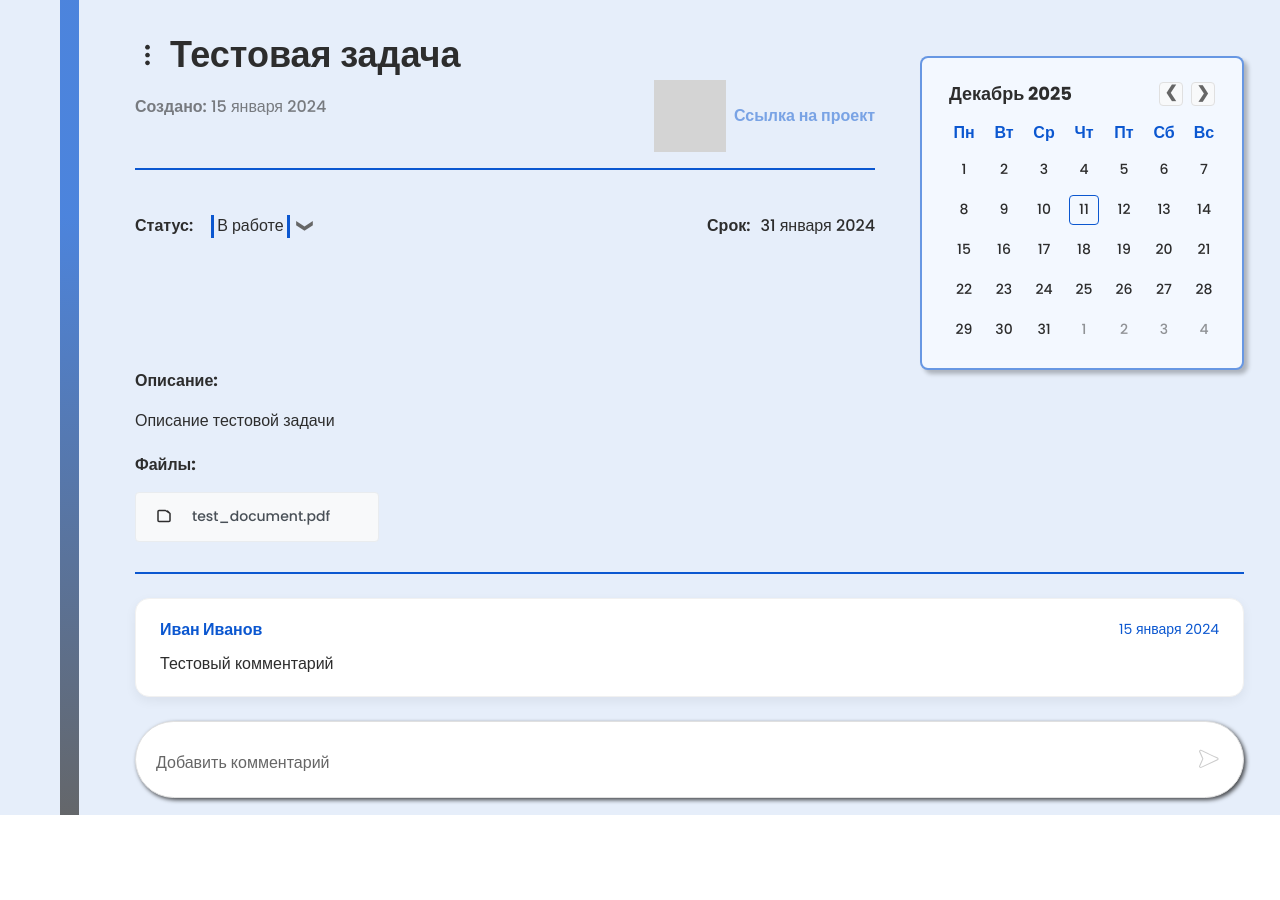
Test: TaskInfo Component › Edge cases › should handle manager role with different user IDs
What coordinates should you click on to do the following:
click the element with test id "toggle-dropdown-btn"
I would click on:
 (261, 227)
Its box is [203,211,319,242].
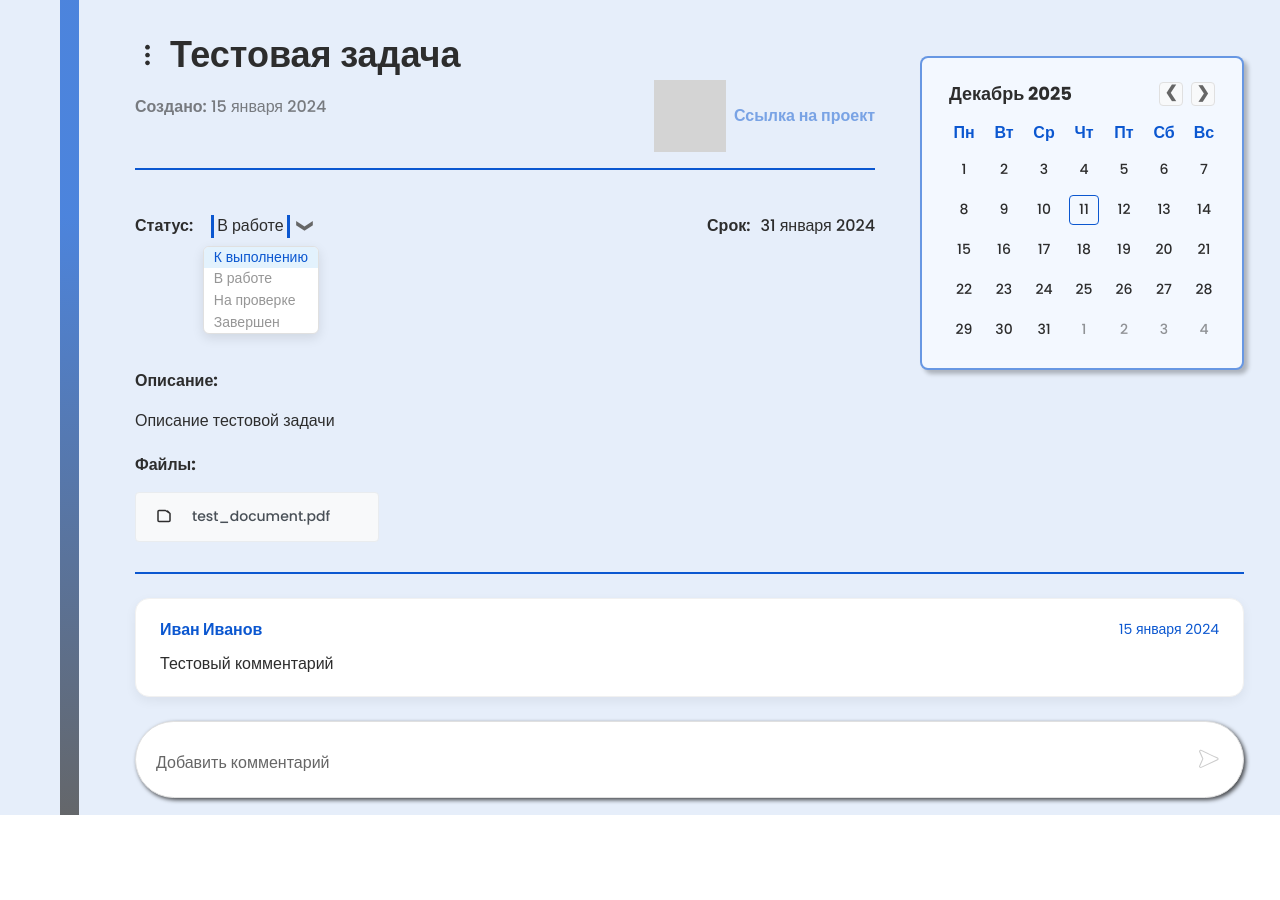
Now the element with test id "status-dropdown" that starts with "К выполнению" is shown, box [203,246,319,334]
Now the number of elements with test id "status-change-btn" is 4, box [204,247,318,268]; [214,268,272,288]; [214,290,295,310]; [214,312,280,332]
